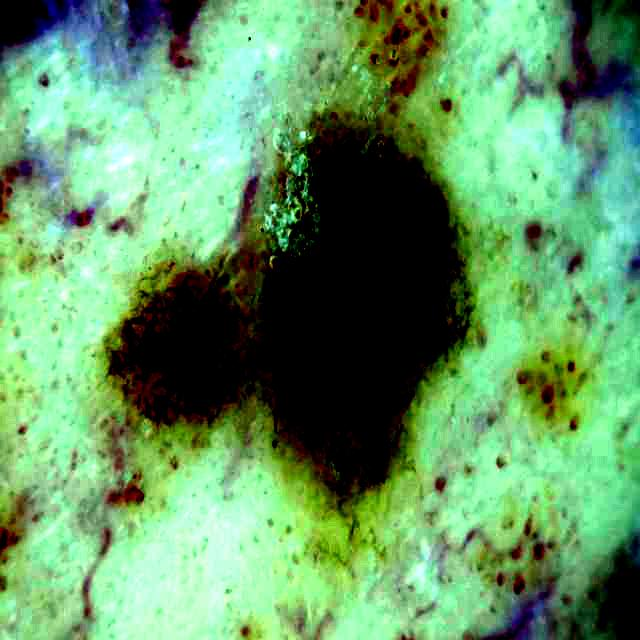NV: (266, 115, 470, 498), (111, 276, 243, 419)
